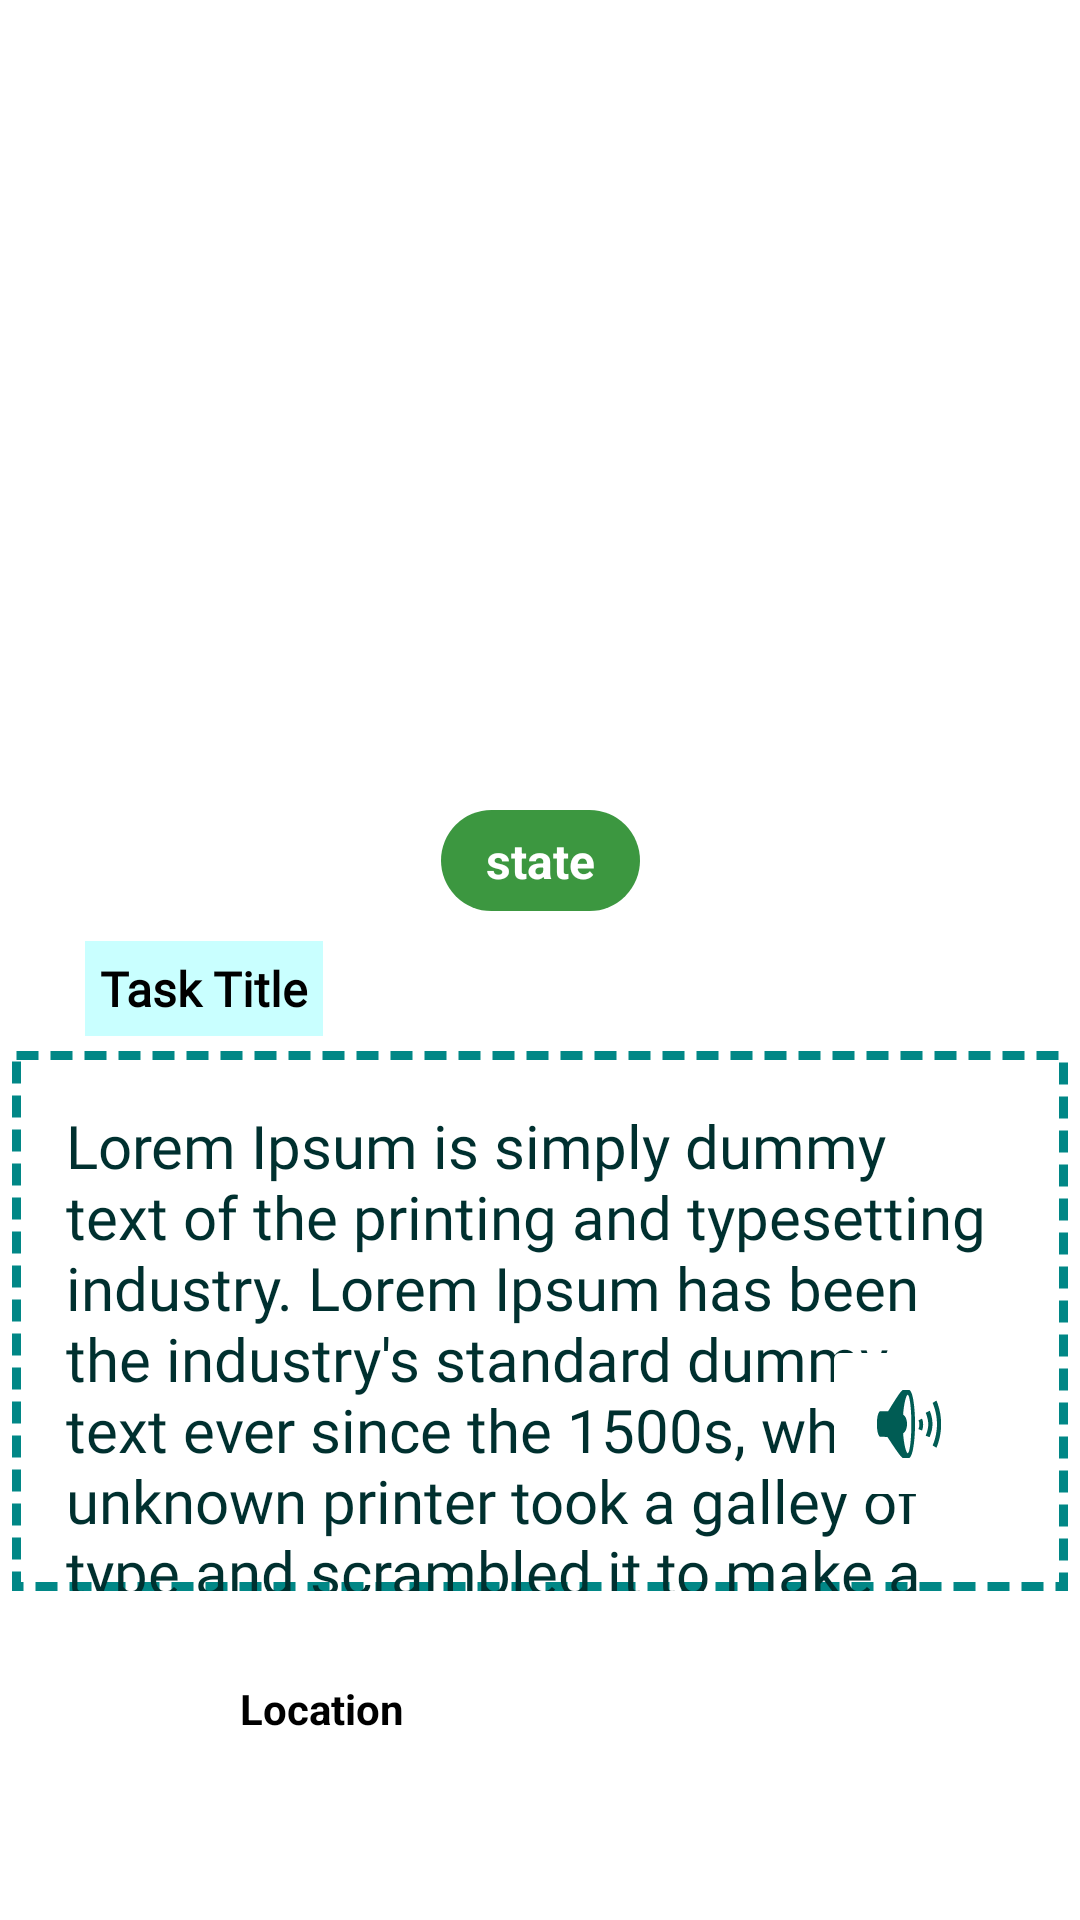

Named icons in this screenshot (1080 x 1920) and their centers, (x,y):
lock silent mode off: (900,1404)
